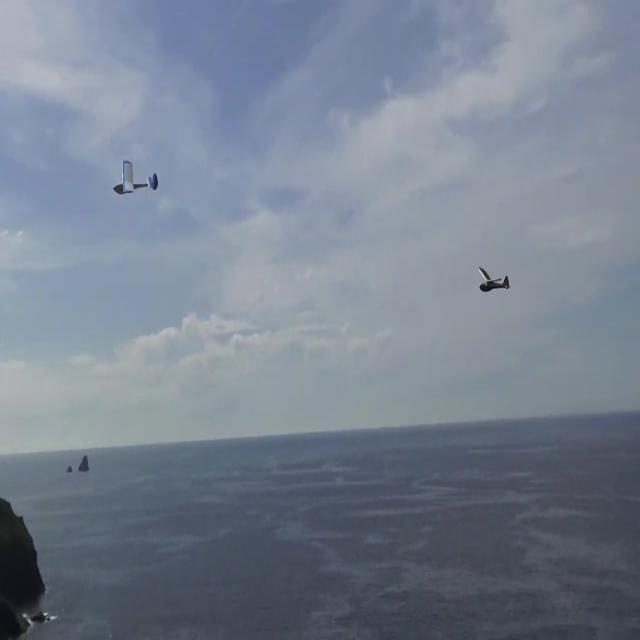iha: (105, 156, 152, 198), (477, 263, 512, 296)
